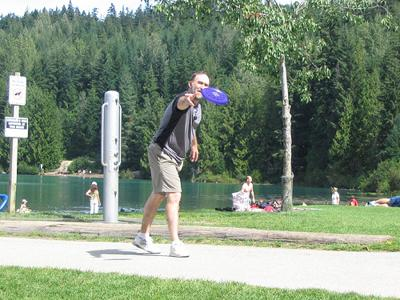person: (132, 72, 211, 258)
